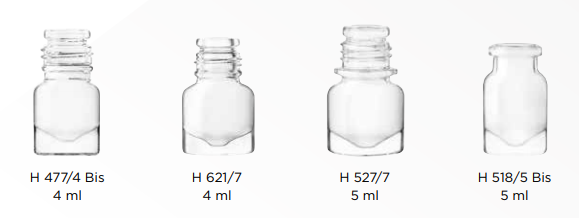glass_bottleww: (155, 8, 277, 215), (305, 11, 419, 218), (14, 17, 128, 206), (464, 19, 557, 218)
